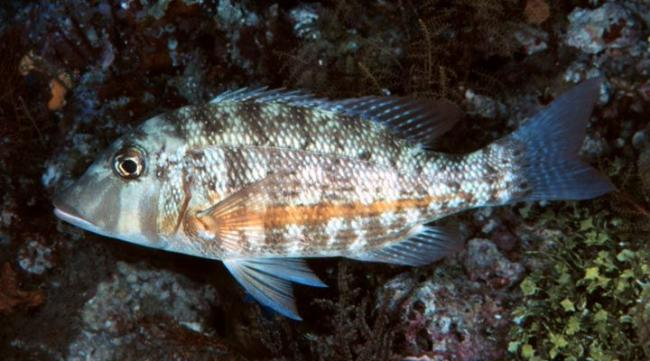fish: (52, 75, 618, 321)
